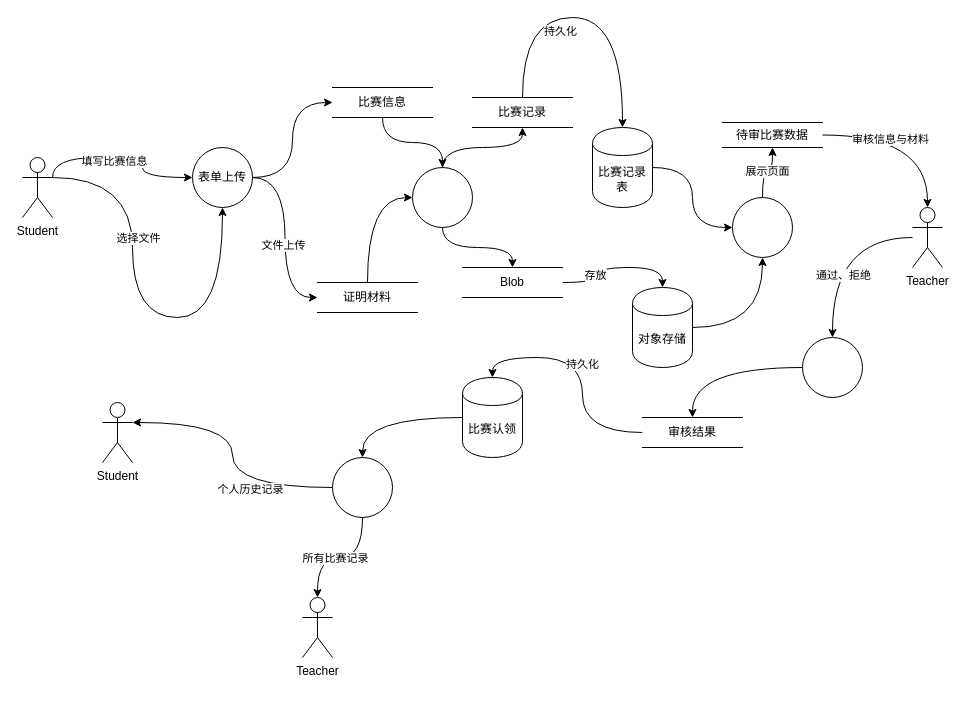
Image size: 966x711. Some labels were removed from this diagram. Each missing label, with the centre of its shape:
完成审核: [832,367]
查询记录: [362,487]
比赛上报列表: [762,227]
比赛记录关联: [442,197]
